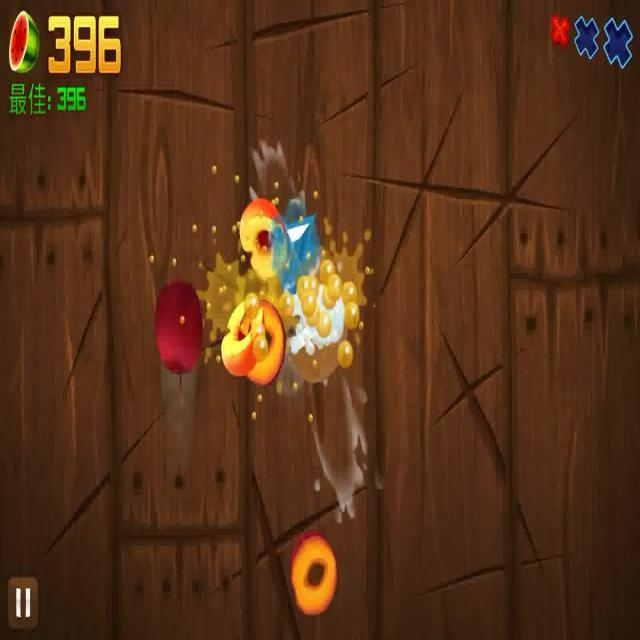fruit: (288, 294, 348, 384), (154, 274, 203, 380), (285, 533, 339, 615), (238, 192, 284, 280), (221, 305, 262, 372), (253, 298, 283, 380)
